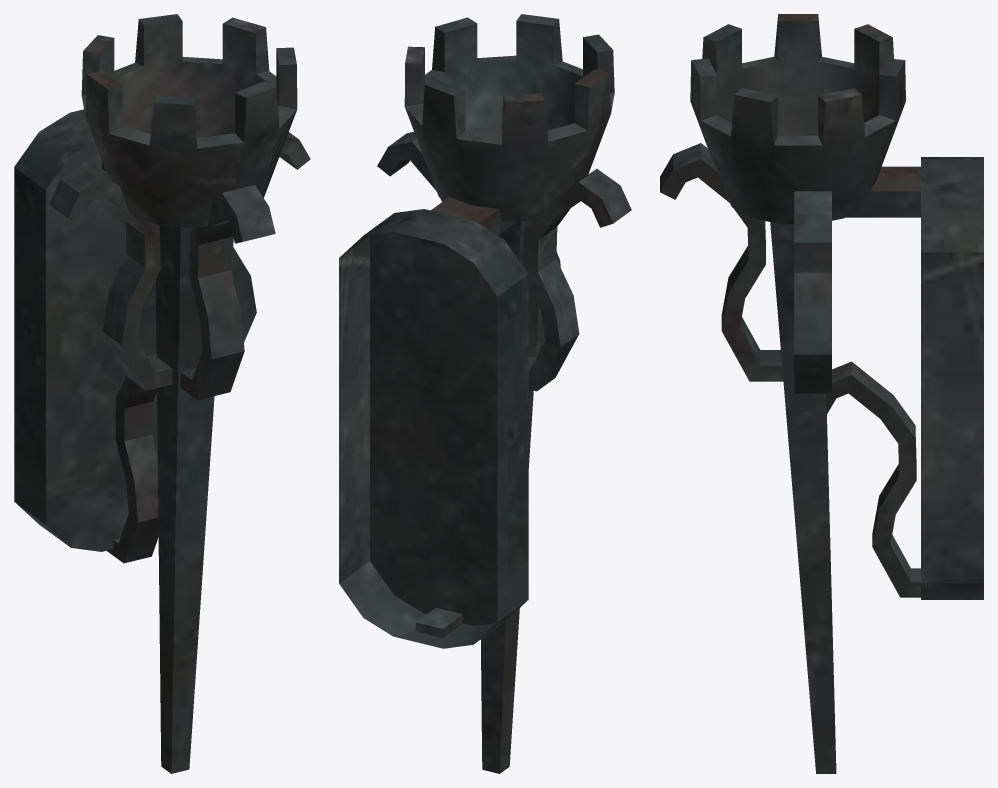
The model's file is df_torch.glb.
3 views of the same model, side by side, from view 1: azimuth 30°, elevation 25°; view 2: azimuth 150°, elevation 25°; view 3: azimuth 270°, elevation 25° (orthographic). The views are drawn at different scales.
Visible parts, largest first — view 1: KB3D_DKF_Torch_A_Main; view 2: KB3D_DKF_Torch_A_Main; view 3: KB3D_DKF_Torch_A_Main.
Part boxes in pixels (x1,y1,x2,y2): KB3D_DKF_Torch_A_Main: (14,14,310,773); KB3D_DKF_Torch_A_Main: (339,14,631,773); KB3D_DKF_Torch_A_Main: (660,14,983,773).
Size of the model in its own units: 0.2707 by 0.7661 by 0.3161.
1 material, 1 textured.
